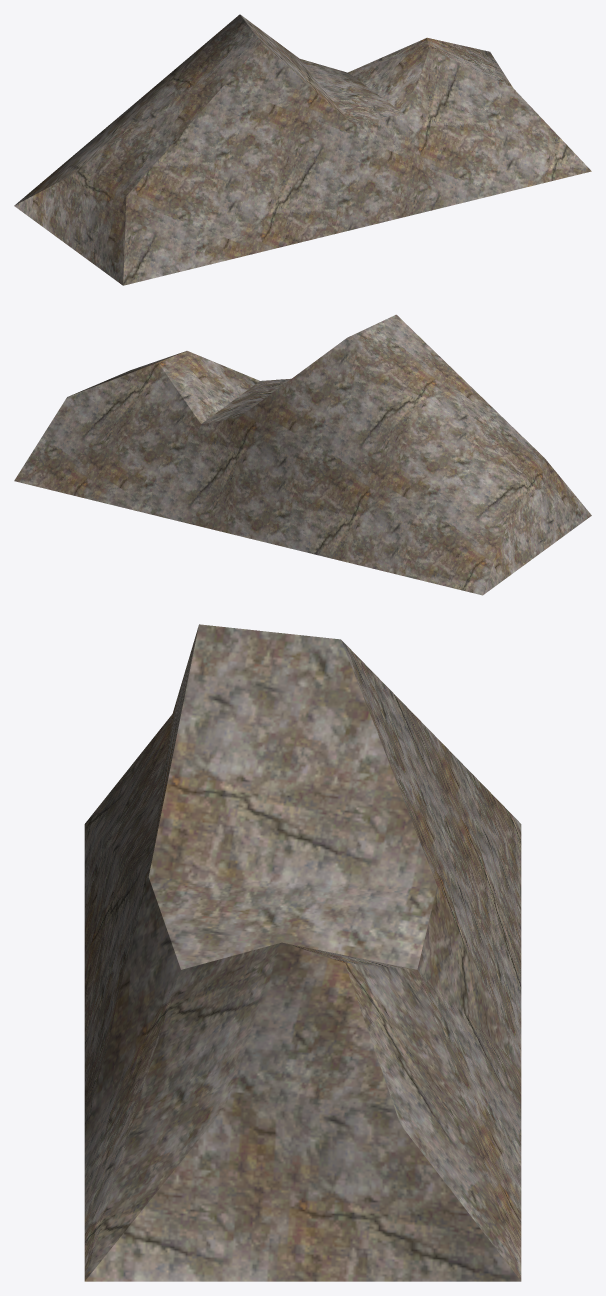
The model's file is RckS02.glb.
The picture shows the model from 3 angles, top to bottom: view 1: azimuth 30°, elevation 25°; view 2: azimuth 150°, elevation 25°; view 3: azimuth 270°, elevation 25°; orthographic projection. The views are drawn at different scales.
Parts seen in each view (by area): view 1: _RckS02; view 2: _RckS02; view 3: _RckS02.
Boxes of the visible parts, bbox=[...] form: _RckS02: bbox=[14, 14, 591, 285]; _RckS02: bbox=[14, 314, 591, 595]; _RckS02: bbox=[84, 624, 521, 1281].
Bounding box in the file's own units: 7.44 × 2.75 × 3.
1 material, 1 textured.
